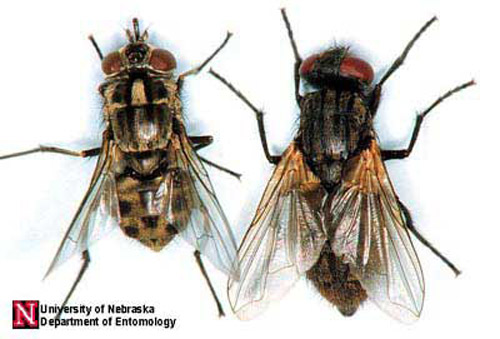fly: (210, 5, 464, 333), (2, 16, 233, 320)
